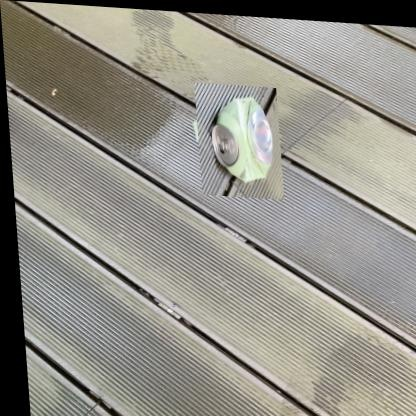trash: (212, 97, 271, 181)
